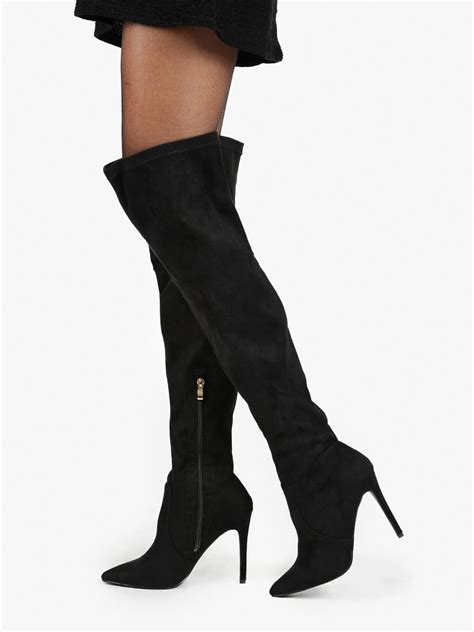gamuza: (101, 134, 361, 596)
